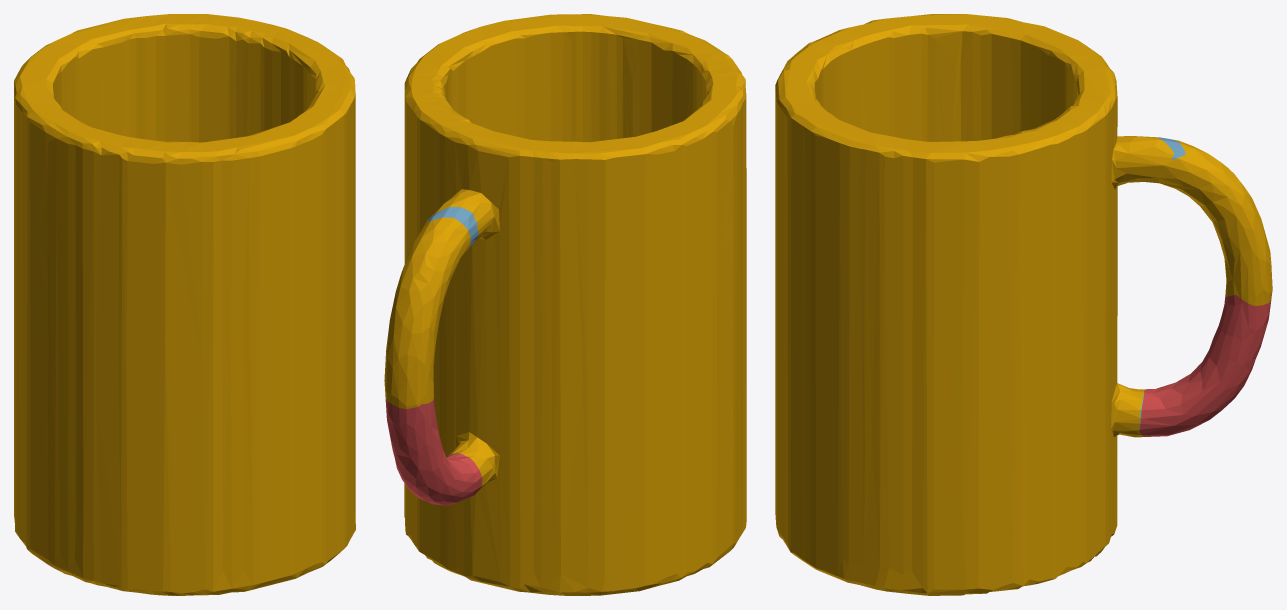
The model's file is fractured_48_4pcs.glb.
The picture shows the model from 3 angles, left to right: view 1: azimuth 30°, elevation 25°; view 2: azimuth 150°, elevation 25°; view 3: azimuth 270°, elevation 25°; orthographic projection.
Visible parts, largest first — view 1: piece_0.obj; view 2: piece_0.obj, piece_1.obj, piece_2.obj; view 3: piece_0.obj, piece_1.obj.
Part boxes in pixels (<box>): piece_0.obj: <box>14,14,355,595</box>; piece_0.obj: <box>384,14,746,595</box>; piece_1.obj: <box>385,396,482,505</box>; piece_2.obj: <box>428,207,478,249</box>; piece_0.obj: <box>775,14,1272,595</box>; piece_1.obj: <box>1139,295,1271,436</box>.
Size of the model in its own units: 0.6884 by 0.9844 by 1.
